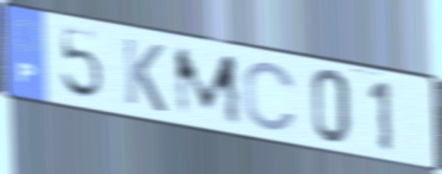0: (309, 67, 358, 149)
1: (366, 78, 395, 154)
5: (56, 23, 107, 102)
C: (241, 59, 300, 134)
K: (120, 34, 169, 116)
M: (170, 45, 246, 128)
